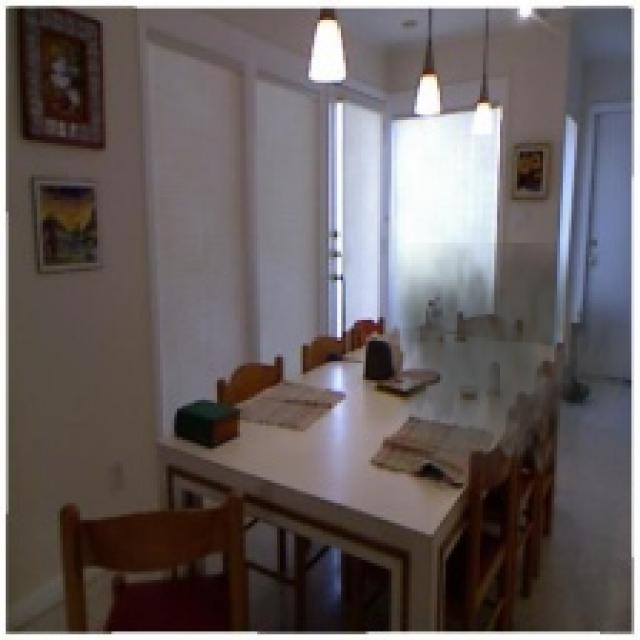smoke: (380, 243, 629, 506)
